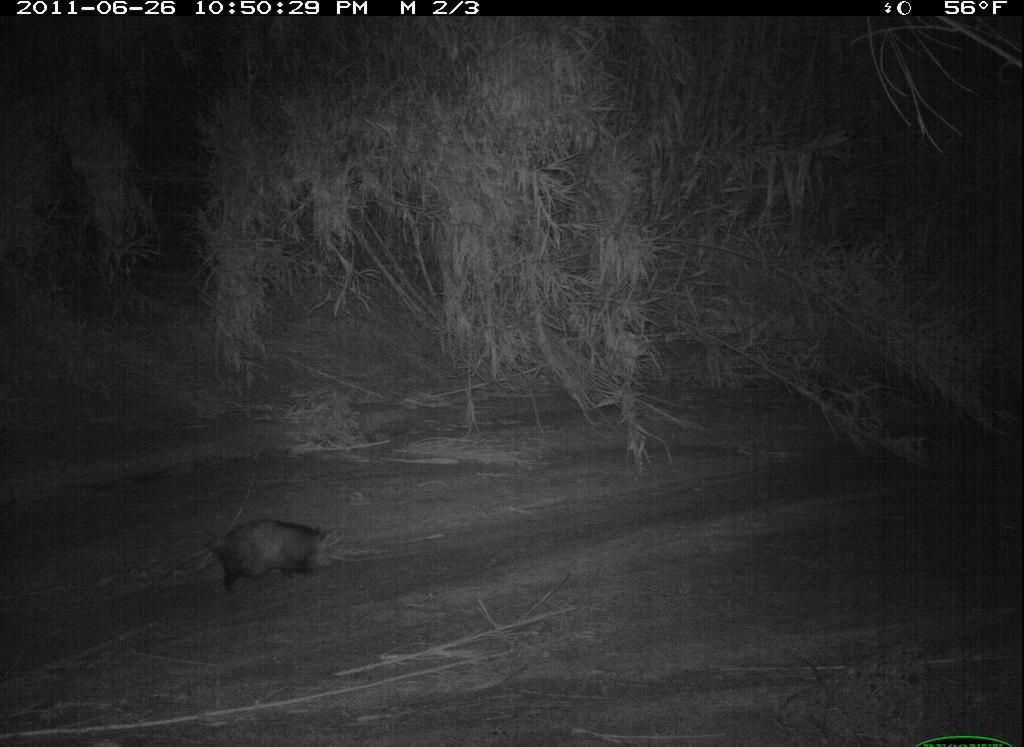opossum: (189, 506, 345, 601)
